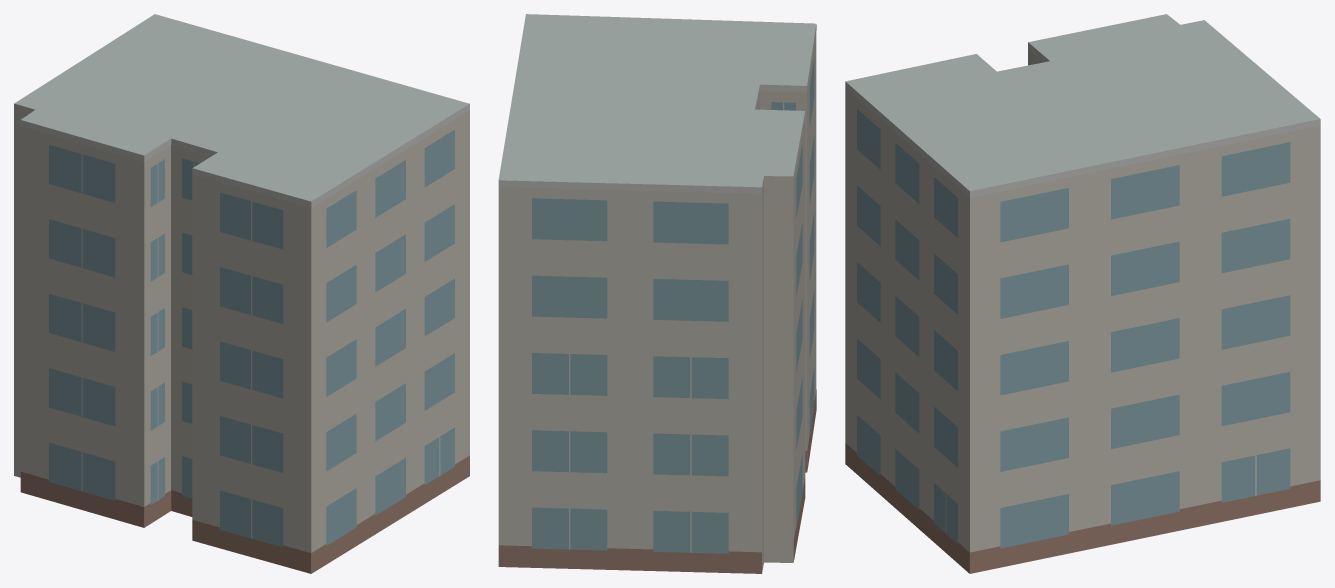
The model's file is survey-upis-32702243.glb.
3 views of the same model, side by side, from view 1: azimuth 30°, elevation 25°; view 2: azimuth 150°, elevation 25°; view 3: azimuth 270°, elevation 25° (orthographic). The views are drawn at different scales.
Parts seen in each view (by area): view 1: survey-upis-32702243.tmp; view 2: survey-upis-32702243.tmp; view 3: survey-upis-32702243.tmp.
Part boxes in pixels (x1,y1,x2,y2): survey-upis-32702243.tmp: (14, 14, 469, 573); survey-upis-32702243.tmp: (498, 14, 816, 573); survey-upis-32702243.tmp: (845, 14, 1320, 573).
Bounding box in the file's own units: 14.32 × 14.4 × 16.22.
